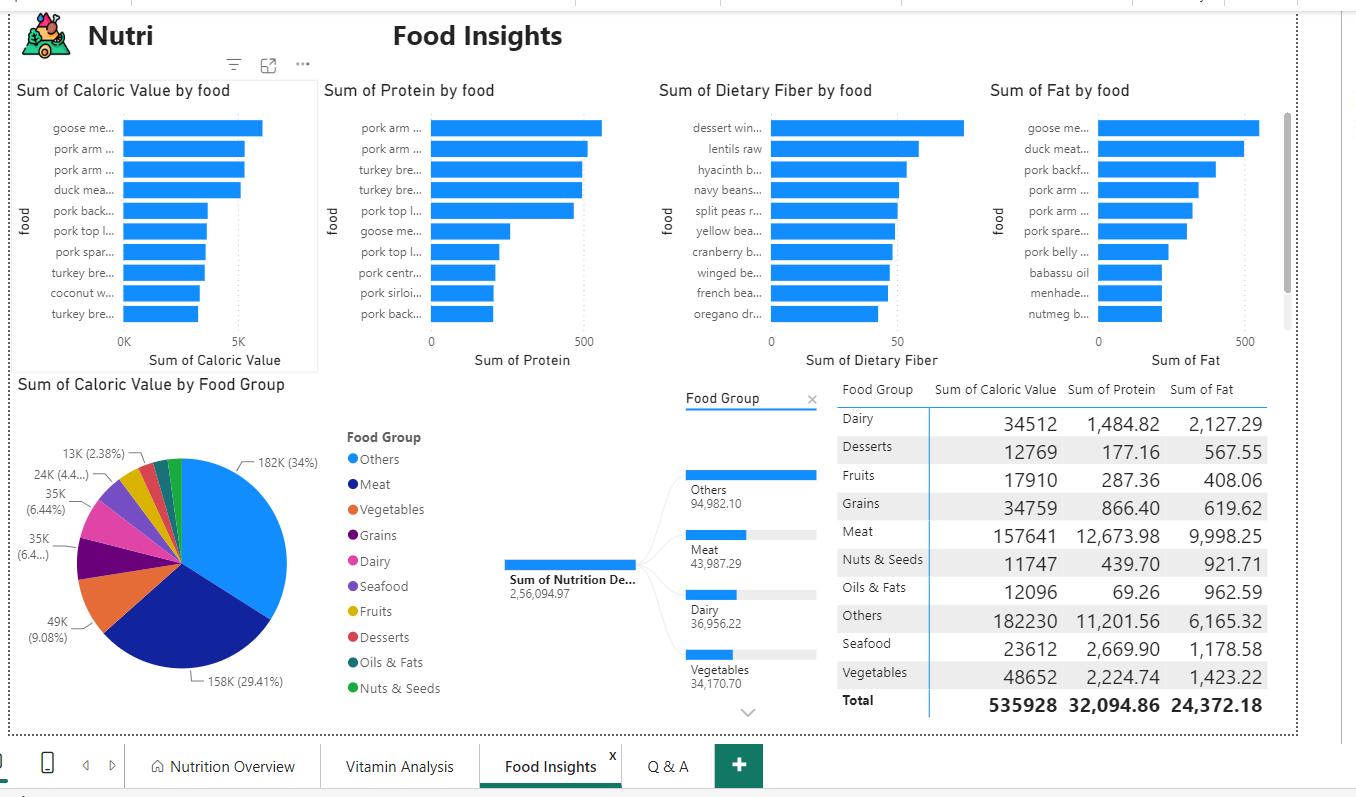

This screenshot's page, from the dashboard's own definition file:
{"tool":"powerbi","page":{"name":"Food Insights","canvas":[1280,720],"ordinal":2},"visuals":[{"type":"clusteredBarChart","fields":{"Category":["Food.food"],"Y":["Sum(Food.Caloric Value)"]},"box":[1.5,68,306,292.7],"z":0},{"type":"barChart","fields":{"Category":["Food.food"],"Y":["Sum(Food.Protein)"]},"box":[307.5,68,309,292.7],"z":1000},{"type":"barChart","fields":{"Category":["Food.food"],"Y":["Sum(Food.Dietary Fiber)"]},"box":[640.2,68,329.7,292.7],"z":2000},{"type":"barChart","fields":{"Y":["Sum(Food.Fat)"],"Category":["Food.food"]},"box":[969.8,68,310.5,292.7],"z":3000},{"type":"pieChart","fields":{"Category":["Food.Food Group"],"Y":["Sum(Food.Caloric Value)"]},"box":[3,360.7,440.6,359.3],"z":4000},{"type":"decompositionTreeVisual","fields":{"Analyze":["Sum(Food.Nutrition Density)"],"ExplainBy":["Food.Food Group"]},"box":[462.7,360.7,356.3,359.3],"z":5000},{"type":"pivotTable","fields":{"Rows":["Food.Food Group"],"Values":["Sum(Food.Caloric Value)","Sum(Food.Protein)","Sum(Food.Fat)"]},"box":[819,360.7,461.3,359.3],"z":6000},{"type":"textbox","box":[72.1,0,93.3,48.5],"z":7000},{"type":"image","box":[0,0,72.1,48.5],"z":8000},{"type":"textbox","box":[375.7,0,301,46],"z":9000}]}

Visuals, with their boxes on the page's 1280x720 design canvas (x1, y1, x2, y2). These are canvas units, not pixel positions in the 1356x797 screenshot, which may show the page scaled, cropped or inside an application window:
clusteredBarChart - Food.food x Sum(Food.Caloric Value): region(2, 68, 308, 361)
barChart - Food.food x Sum(Food.Protein): region(308, 68, 616, 361)
barChart - Food.food x Sum(Food.Dietary Fiber): region(640, 68, 970, 361)
barChart - Sum(Food.Fat) x Food.food: region(970, 68, 1280, 361)
pieChart - Food.Food Group x Sum(Food.Caloric Value): region(3, 361, 444, 720)
decompositionTreeVisual - Sum(Food.Nutrition Density) x Food.Food Group: region(463, 361, 819, 720)
pivotTable - Food.Food Group x Sum(Food.Caloric Value): region(819, 361, 1280, 720)
textbox: region(72, 0, 165, 48)
image: region(0, 0, 72, 48)
textbox: region(376, 0, 677, 46)
